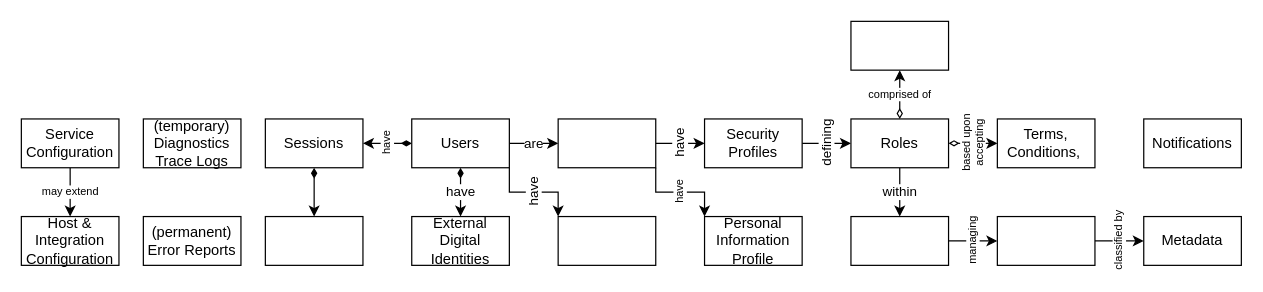
The diagram is 1263 pixels wide and 292 high, and some of its shapes have lost their labels. Each missing label, with the centre of its shape:
"(permanent) Session Ops Audit Logs" goes at (x=313, y=240).
"Groups" goes at (x=899, y=240).
"Permissions" goes at (x=899, y=45).
"Personal Settings Profile" goes at (x=606, y=240).
"Persons" goes at (x=606, y=143).
"Resources" goes at (x=1045, y=240).
